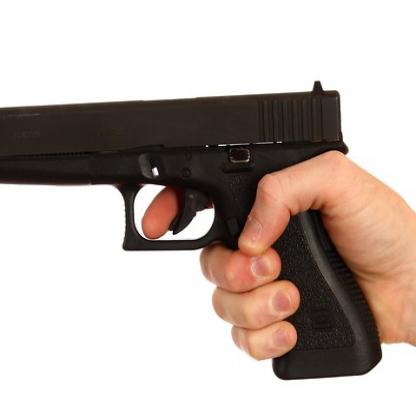gun: (0, 63, 399, 391)
